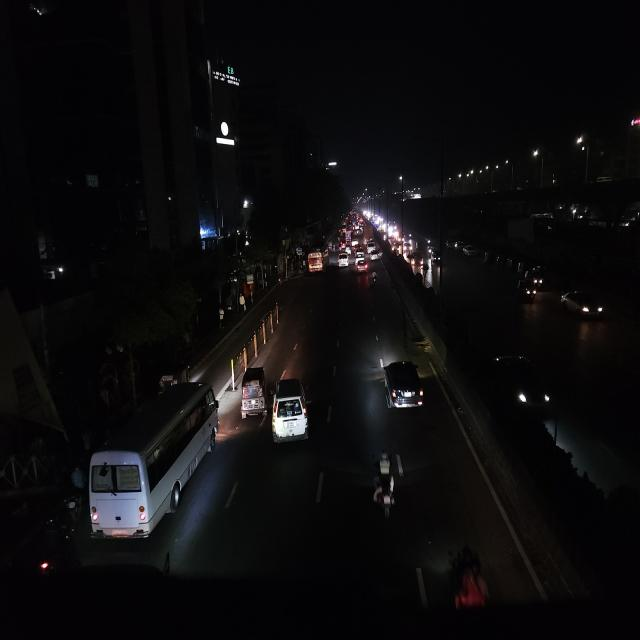bus: (84, 385, 228, 537), (309, 241, 329, 276)
car: (498, 350, 560, 422), (374, 357, 430, 417), (271, 381, 315, 456), (559, 286, 608, 329), (407, 251, 425, 268), (355, 258, 368, 274), (337, 252, 350, 267), (354, 244, 366, 260), (463, 247, 478, 259), (369, 248, 380, 263), (366, 241, 376, 254), (351, 237, 359, 247), (338, 241, 344, 250)
cng: (237, 359, 271, 428), (517, 278, 537, 303), (431, 250, 443, 266), (344, 244, 352, 256)
motorcycle: (370, 448, 406, 524), (371, 269, 379, 287), (426, 243, 433, 259)
